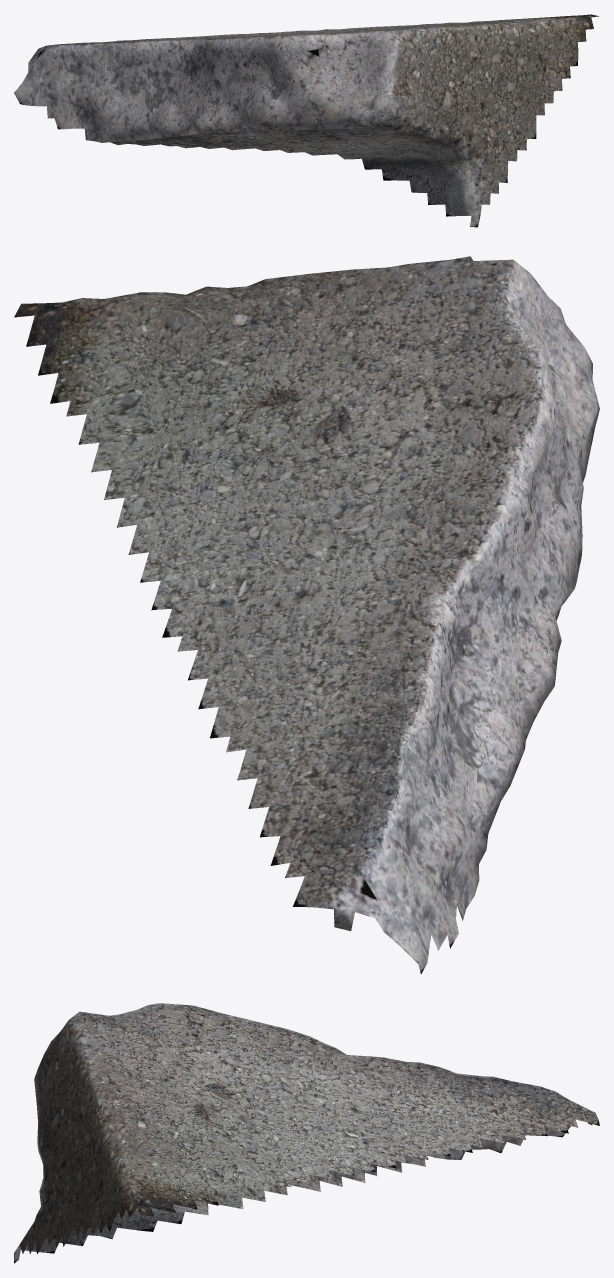
3 views of the same model, one above another, from view 1: azimuth 30°, elevation 25°; view 2: azimuth 150°, elevation 25°; view 3: azimuth 270°, elevation 25° (orthographic). The views are drawn at different scales.
Parts seen in each view (by area): view 1: Old Fragment of Concrete 03; view 2: Old Fragment of Concrete 03; view 3: Old Fragment of Concrete 03.
Boxes of the visible parts, x1,y1,x2,y2 form: Old Fragment of Concrete 03: (14,14,598,227); Old Fragment of Concrete 03: (14,256,599,973); Old Fragment of Concrete 03: (14,1003,599,1263).
Size of the model in its own units: 1.07 by 0.5061 by 1.19.
Materials: 1 (1 with a texture image).
